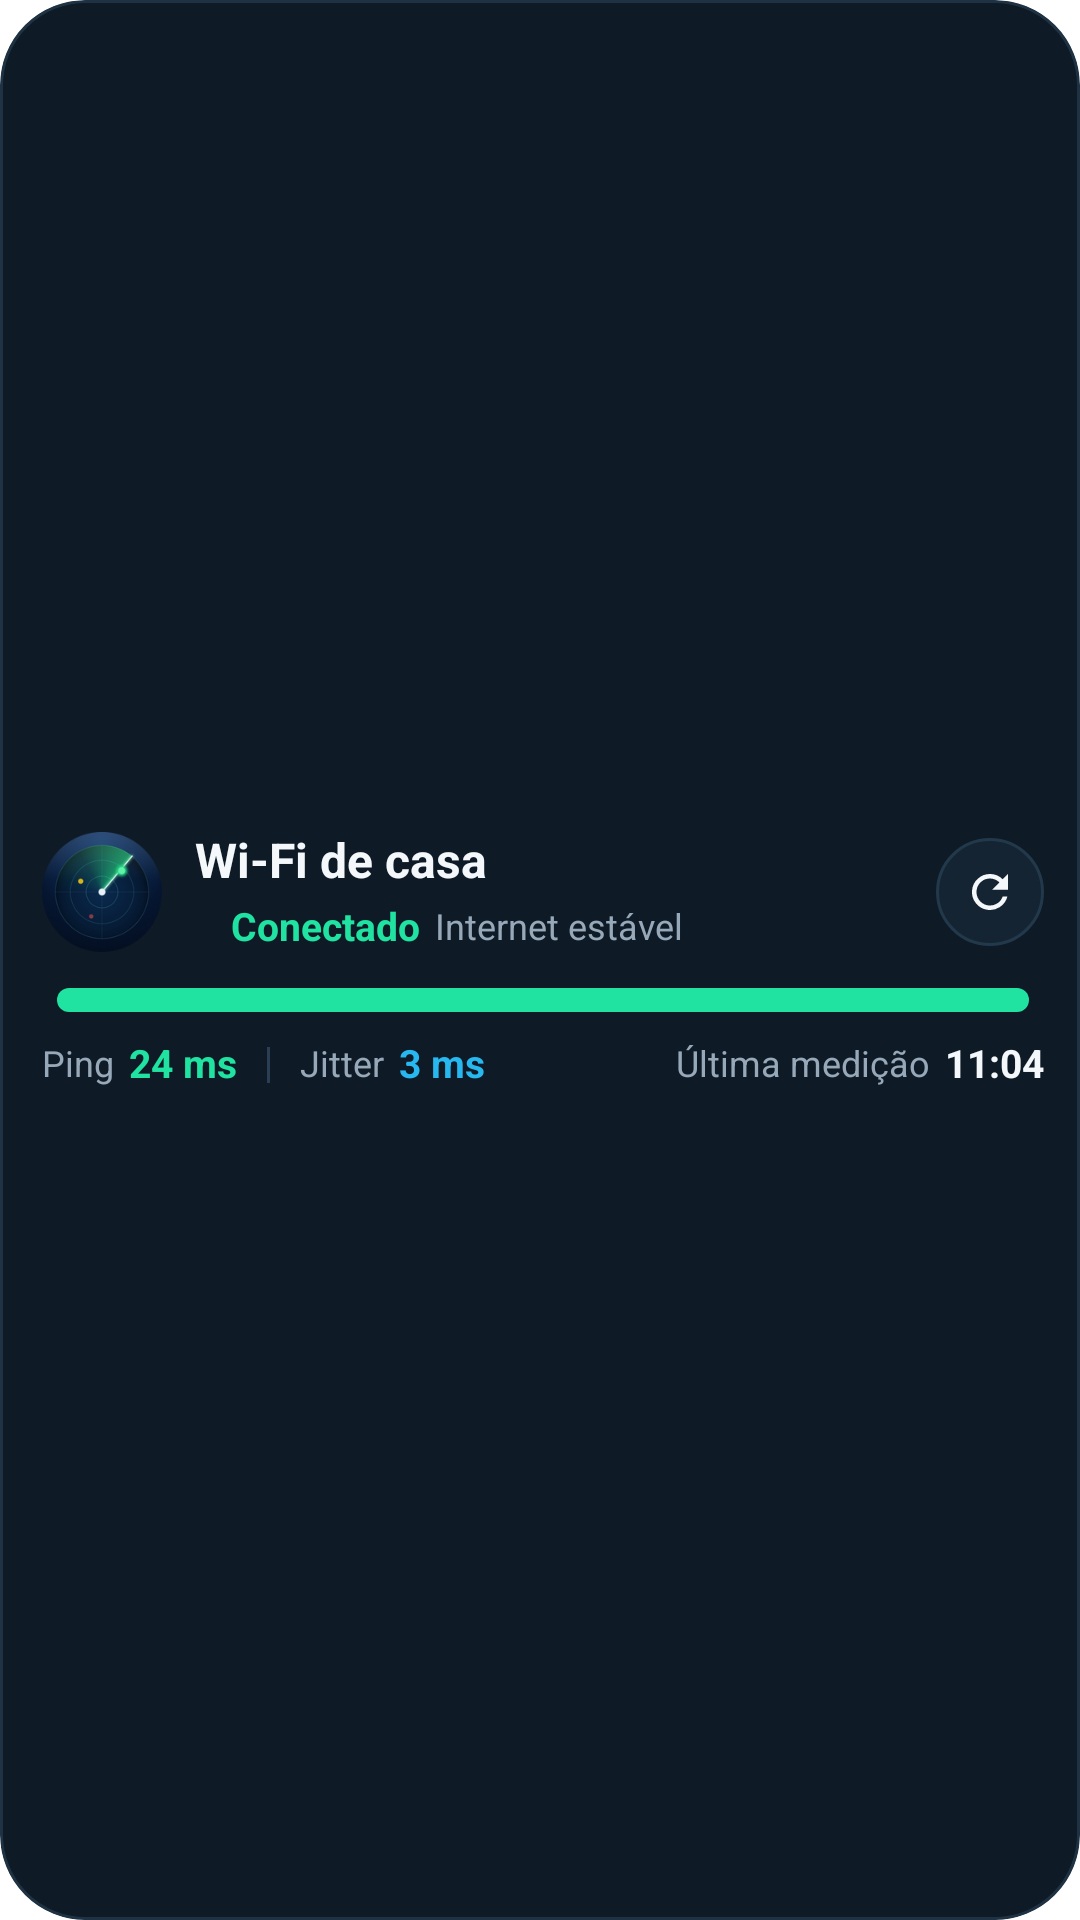

Icons on this 1080x1920 Android screen, each with its box as (x1, y1, x2, y2):
Verificar agora: (936, 838, 1044, 946)
